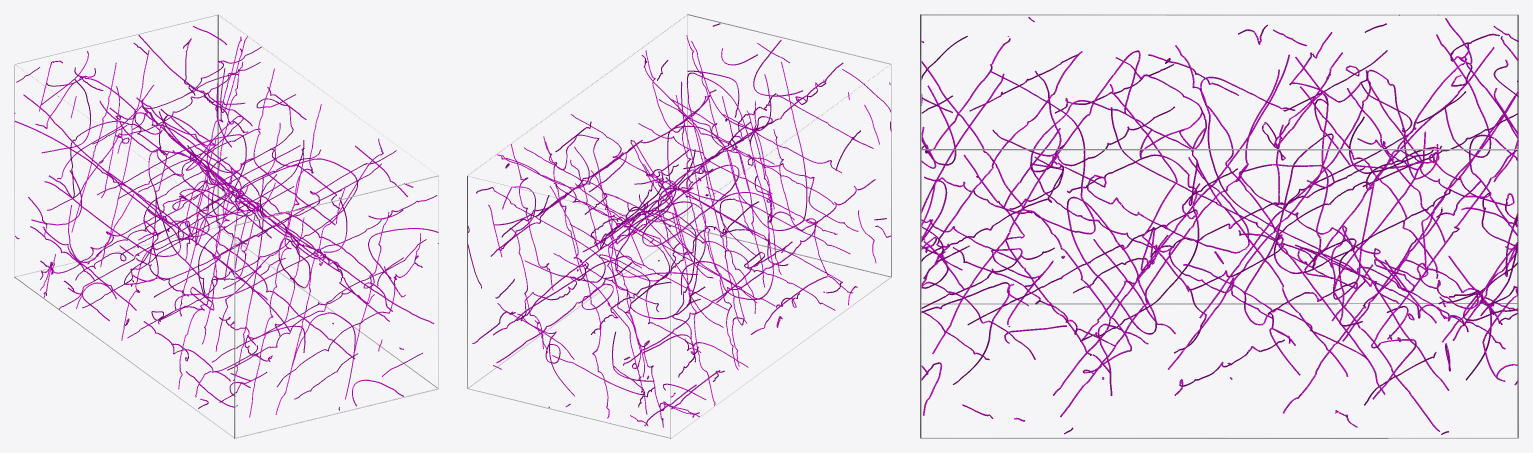
The picture shows the model from 3 angles, left to right: view 1: azimuth 30°, elevation 25°; view 2: azimuth 150°, elevation 25°; view 3: azimuth 270°, elevation 25°; orthographic projection. The views are drawn at different scales.
Visible parts, largest first — view 1: Shape_IndexedLineSet.001, Shape_IndexedLineSet; view 2: Shape_IndexedLineSet.001, Shape_IndexedLineSet; view 3: Shape_IndexedLineSet.001, Shape_IndexedLineSet.
Part boxes in pixels (x1,y1,x2,y2): Shape_IndexedLineSet.001: [14, 26, 438, 417]; Shape_IndexedLineSet: [14, 14, 438, 438]; Shape_IndexedLineSet.001: [467, 23, 891, 427]; Shape_IndexedLineSet: [467, 14, 891, 438]; Shape_IndexedLineSet.001: [921, 15, 1518, 434]; Shape_IndexedLineSet: [920, 14, 1518, 438].
Bounding box in the file's own units: 239 × 239 × 447.
